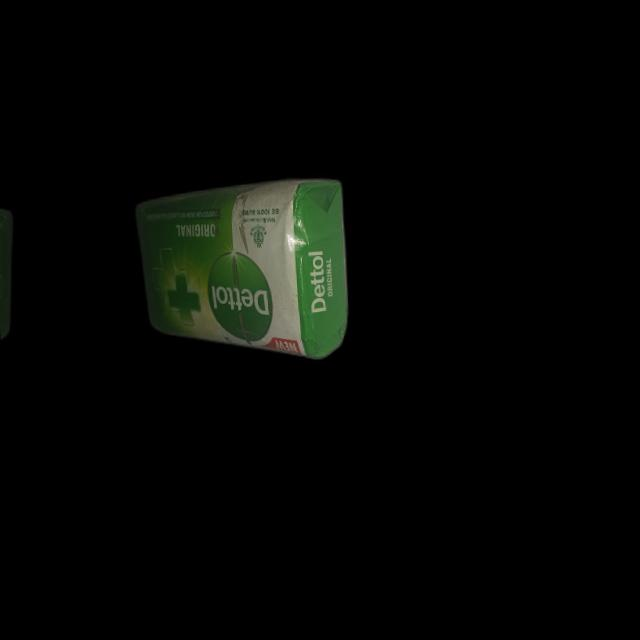Dettol Bathing Soap Bar - Original 125g: (128, 166, 360, 372)
